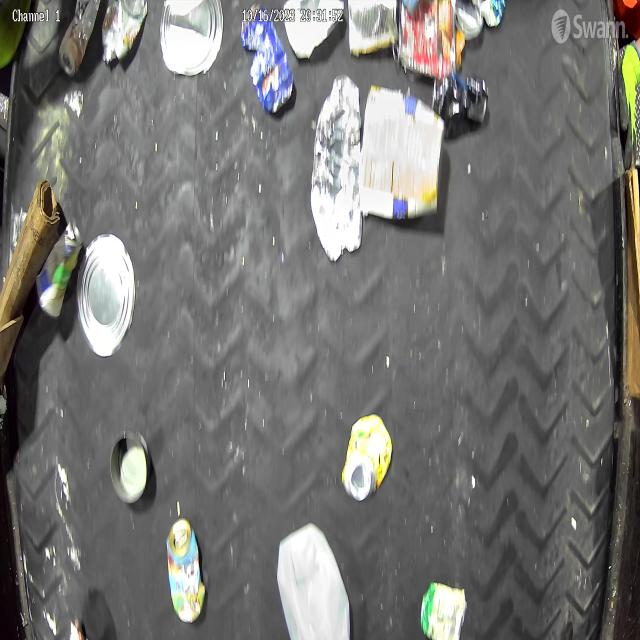can: (359, 84, 447, 220), (77, 232, 136, 357), (240, 7, 294, 114), (35, 217, 82, 319), (397, 0, 457, 79), (160, 0, 223, 75), (342, 413, 392, 500), (166, 518, 205, 624), (110, 428, 151, 506), (347, 0, 400, 57), (432, 73, 489, 123), (420, 581, 468, 640), (455, 0, 506, 39)
milk_jug: (276, 521, 351, 640)
plastic_bottle: (311, 75, 364, 263)
